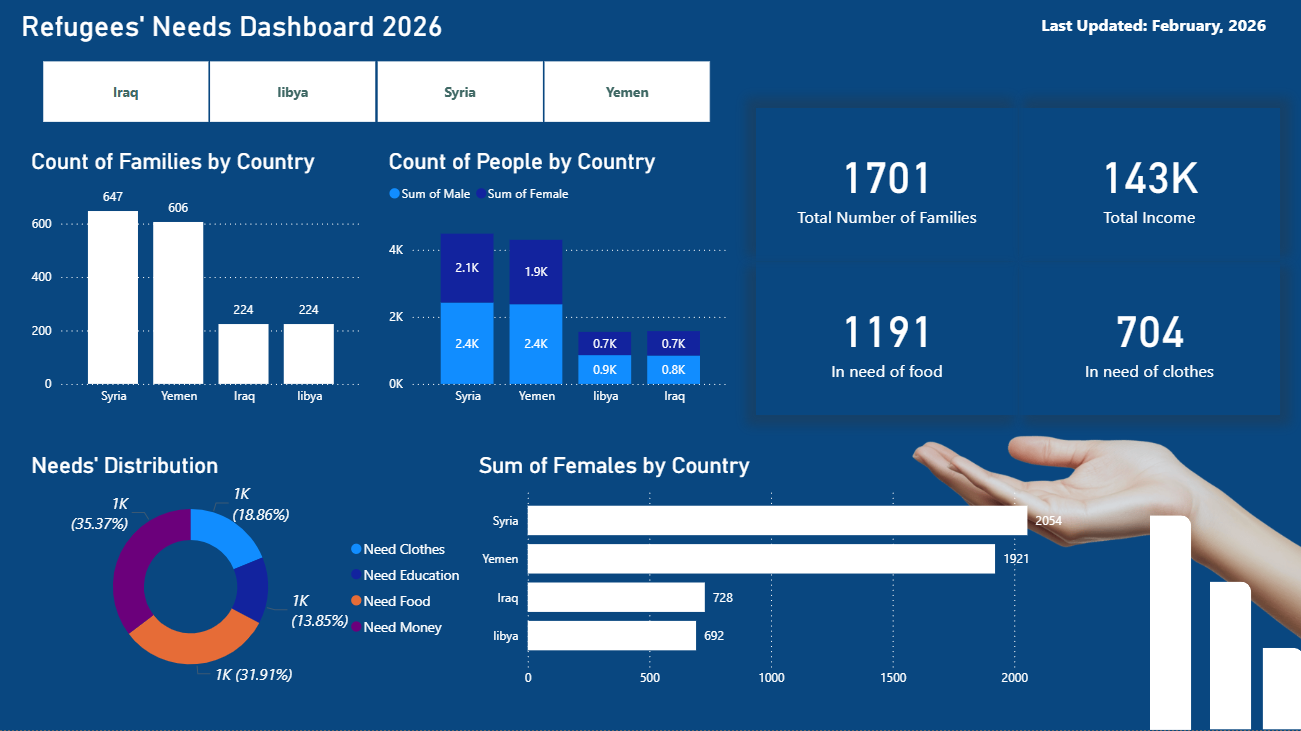

The page's visual inventory and layout, read from the dashboard file:
{"tool":"powerbi","page":{"name":"Page 1","canvas":[1280,720],"ordinal":0},"visuals":[{"type":"card","fields":{"Values":["CountNonNull(Needs.Name)"]},"box":[745,111.2,256.2,150],"z":0,"group":"g1"},{"type":"image","box":[873.8,345,406.2,330],"z":0},{"type":"card","fields":{"Values":["Sum(Needs.Income)"]},"box":[1001.2,111.2,256.2,150],"z":1000,"group":"g1"},{"type":"columnChart","title":"Count of Families by Country","fields":{"Category":["Needs.Country"],"Y":["CountNonNull(Needs.Name)"]},"box":[30,151.2,333.8,260],"z":1000},{"type":"barChart","title":"Sum of Females by Country","fields":{"Y":["Sum(Needs.Female)"],"Category":["Needs.Country"]},"box":[468.8,448.8,593.8,238.8],"z":1000},{"type":"card","fields":{"Values":["Sum(Needs.Need/food)"]},"box":[745,261.2,256.2,150],"z":2000,"group":"g1"},{"type":"donutChart","title":"Needs'' Distribution","fields":{"Y":["Sum(Needs.Need/Clothes)","Sum(Needs.Need/Education)","Sum(Needs.Need/food)","Sum(Needs.Need/Money)"]},"box":[30.6,448.8,437.8,238.5],"z":2000},{"type":"group","id":"g1","title":"Group 1","box":[745,111.2,512.5,300],"z":3000},{"type":"columnChart","title":"Count of People by Country","fields":{"Category":["Needs.Country"],"Y":["Sum(Needs.Male)","Sum(Needs.Female)"]},"box":[380,151.2,343.8,260],"z":3000},{"type":"card","fields":{"Values":["Sum(Needs.Need/Clothes)"]},"box":[1001.2,261.2,256.2,150],"z":3000,"group":"g1"},{"type":"textbox","title":"Refugees'' Needs Dashboard 2026","box":[21.2,15.6,425,33.8],"z":5000},{"type":"slicer","fields":{"Values":["Needs.Country"]},"box":[21.2,58.8,702.5,73.8],"z":6000},{"type":"textbox","box":[1018.8,13.8,238.8,37.5],"z":7000},{"type":"shape","box":[1239.6,639.8,40.4,80.2],"z":8000},{"type":"shape","box":[1188.7,574.9,40.4,145.1],"z":9000},{"type":"shape","box":[1130,510,40.4,210],"z":10000}]}

Visuals, with their boxes in screenshot pixels (x1, y1, x2, y2), scaled from the page's 1280x720 canvas onto the 1301x731 screenshot:
card - CountNonNull(Needs.Name): rect(757, 113, 1018, 265)
image: rect(888, 350, 1300, 685)
card - Sum(Needs.Income): rect(1018, 113, 1278, 265)
"Count of Families by Country" columnChart: rect(30, 154, 370, 417)
"Sum of Females by Country" barChart: rect(476, 456, 1080, 698)
card - Sum(Needs.Need/food): rect(757, 265, 1018, 417)
"Needs'' Distribution" donutChart: rect(31, 456, 476, 698)
"Group 1" group: rect(757, 113, 1278, 417)
"Count of People by Country" columnChart: rect(386, 154, 736, 417)
card - Sum(Needs.Need/Clothes): rect(1018, 265, 1278, 417)
"Refugees'' Needs Dashboard 2026" textbox: rect(22, 16, 454, 50)
slicer - Needs.Country: rect(22, 60, 736, 135)
textbox: rect(1036, 14, 1278, 52)
shape: rect(1260, 650, 1300, 730)
shape: rect(1208, 584, 1249, 730)
shape: rect(1149, 518, 1190, 730)
